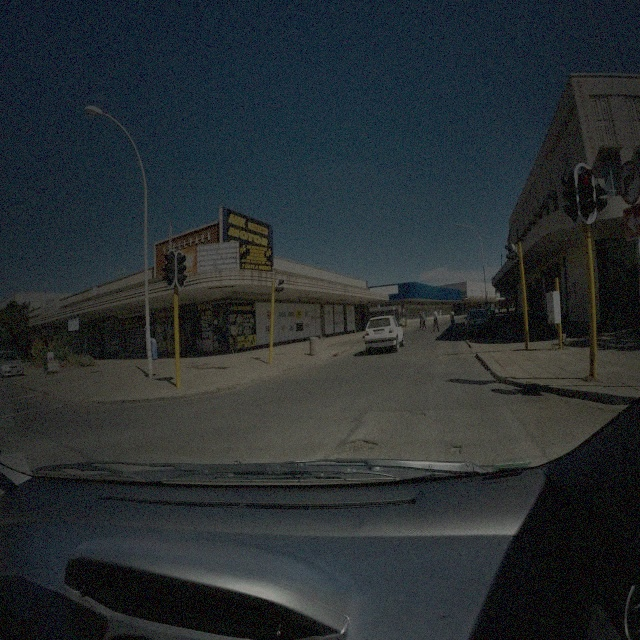pothole: (344, 437, 377, 456), (449, 444, 463, 455)
